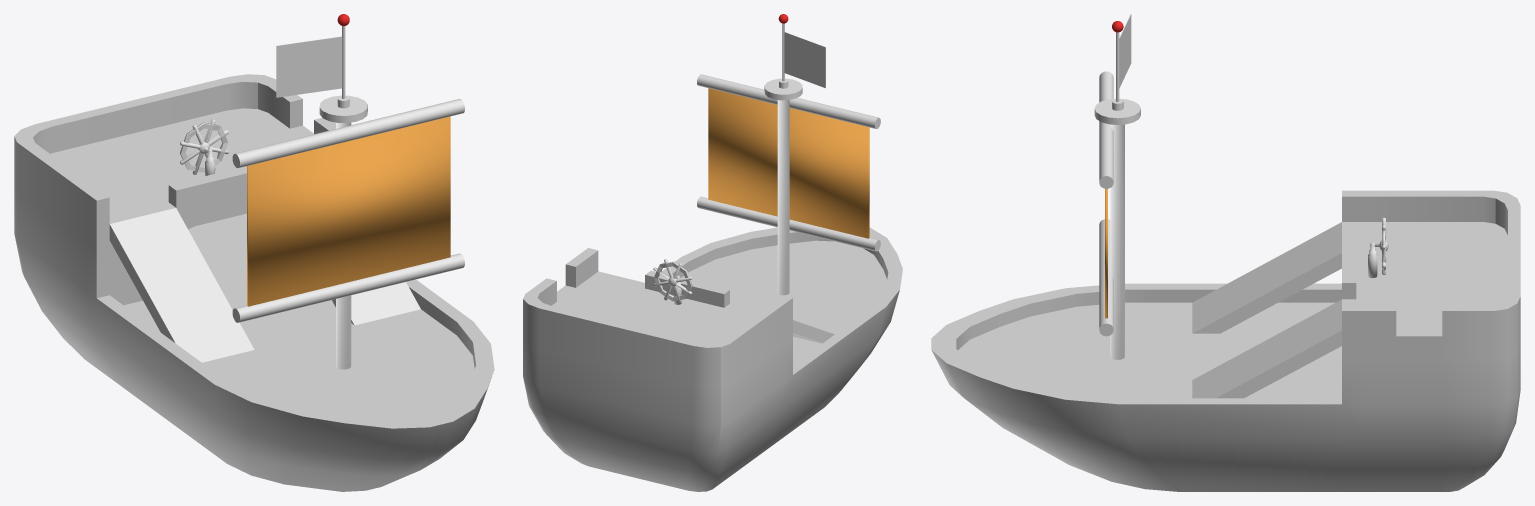
File: NewBoat.fbx
The picture shows the model from 3 angles, left to right: view 1: azimuth 30°, elevation 25°; view 2: azimuth 150°, elevation 25°; view 3: azimuth 270°, elevation 25°; orthographic projection. The views are drawn at different scales.
Parts seen in each view (by area): view 1: Cube, TopPole, Flag, Steering Wheel; view 2: Cube, TopPole, Flag, Steering Wheel; view 3: Cube, TopPole, Flag.
Part boxes in pixels (box(x1,y1,x2,y2)): Cube: box(14, 74, 494, 491); TopPole: box(232, 14, 464, 369); Flag: box(276, 36, 342, 97); Steering Wheel: box(179, 119, 228, 174); Cube: box(523, 227, 902, 491); TopPole: box(697, 14, 880, 295); Flag: box(784, 32, 825, 88); Steering Wheel: box(653, 259, 692, 302); Cube: box(931, 190, 1520, 491); TopPole: box(1094, 21, 1140, 359); Flag: box(1119, 14, 1131, 88).
Size of the model in its own units: 391 by 653 by 810.
